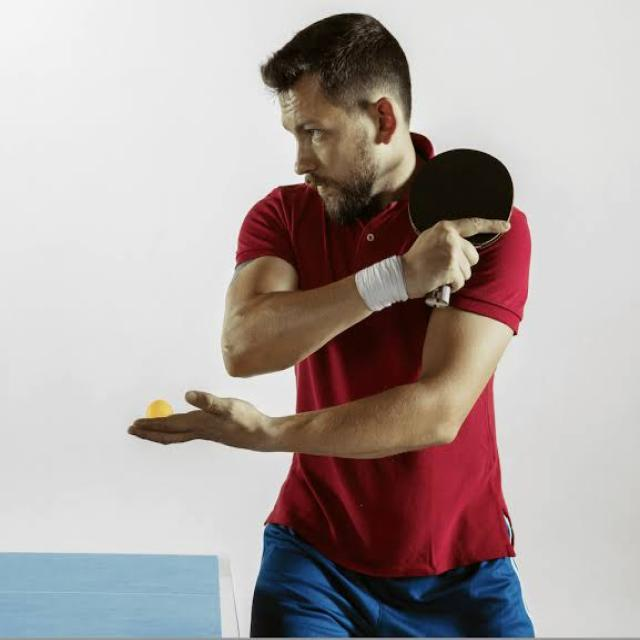TT Racket: (397, 141, 518, 253)
TT Table: (0, 553, 239, 639)
